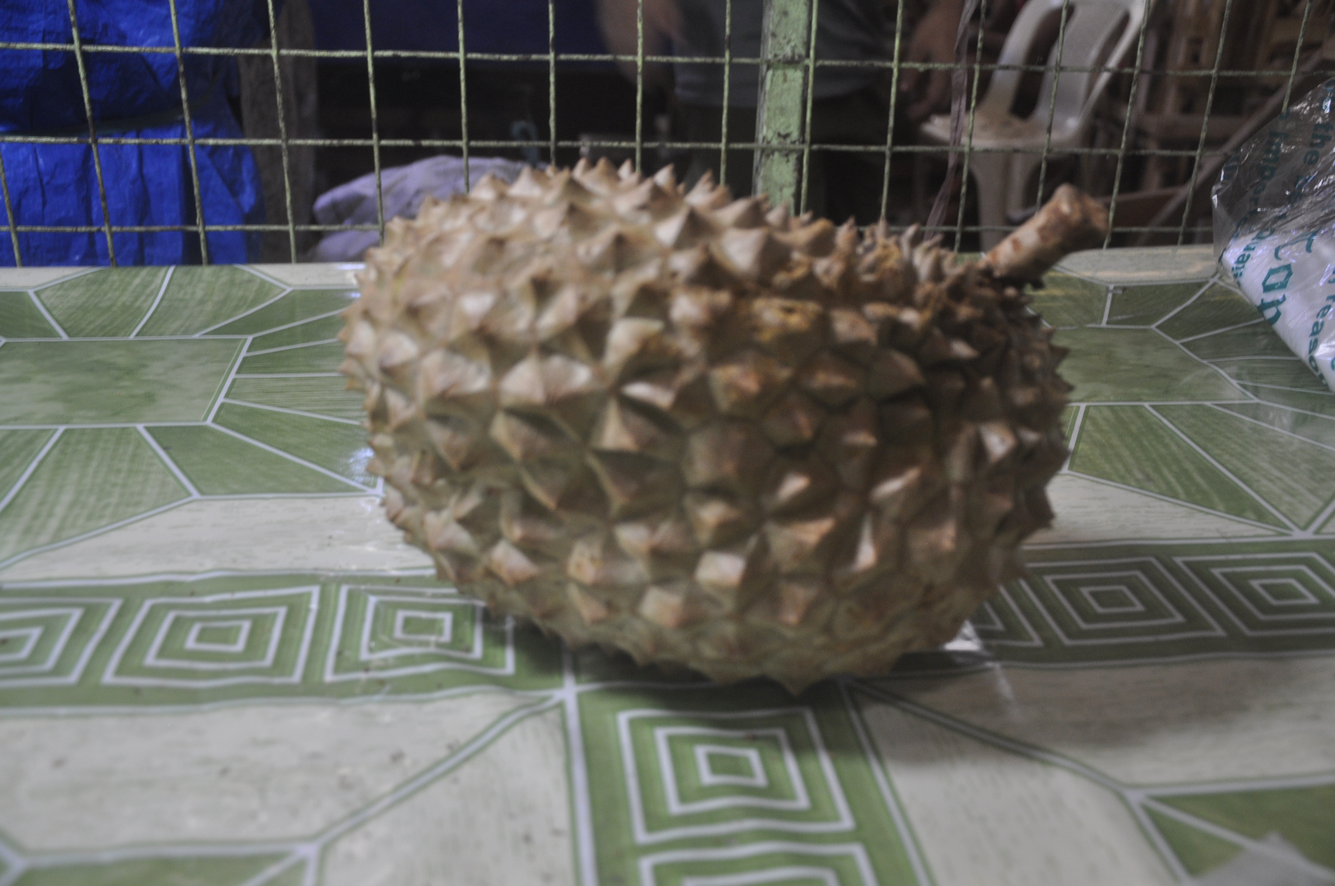mature: (341, 160, 1106, 691)
